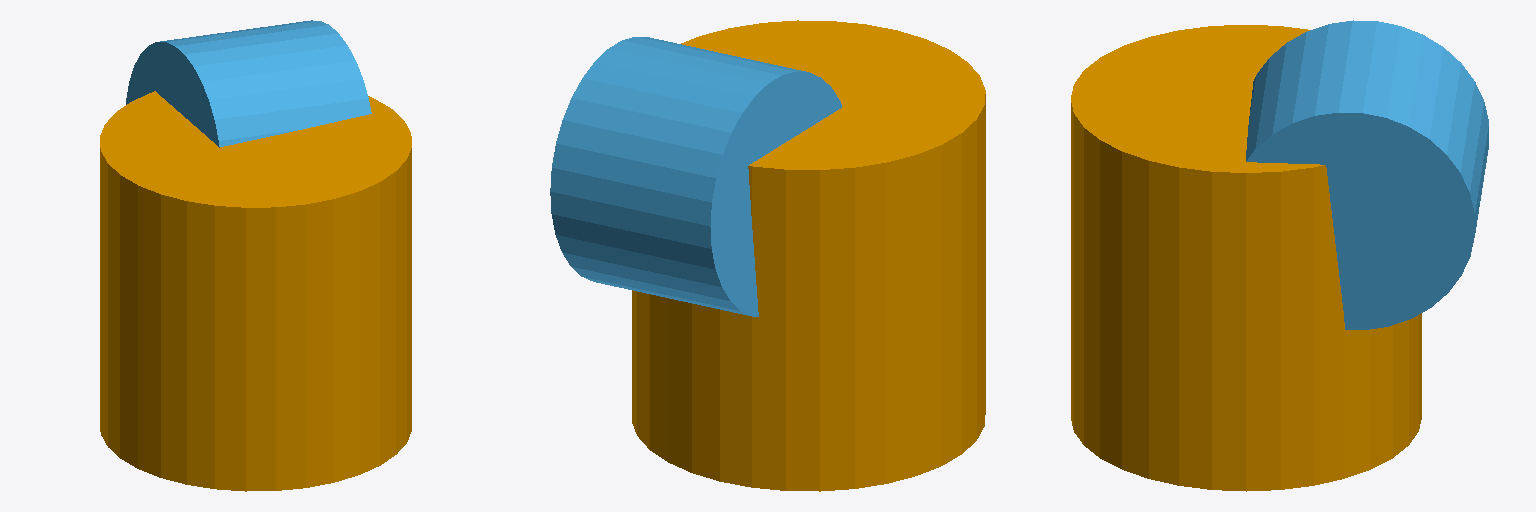
The robot description file, URDF, robot "pepe":
<?xml version="1.0"?><robot name="pepe">
	<link name="0">
		<visual>
			<geometry>
				<cylinder length="1.3659893883272214" radius="0.6836311533579179"/>
			</geometry>
		</visual>
		<collision>
			<geometry>
				<cylinder length="1.3659893883272214" radius="0.6836311533579179"/>
			</geometry>
		</collision>
		<inertial>
			<mass value="2.0055841520331796"/>
			<inertia ixx="0.03" iyy="0.03" izz="0.03" ixy="0" ixz="0" iyx="0"/>
		</inertial>
	</link>
	<link name="11">
		<visual>
			<geometry>
				<cylinder length="0.7484492312171249" radius="0.48318284140159073"/>
			</geometry>
		</visual>
		<collision>
			<geometry>
				<cylinder length="0.7484492312171249" radius="0.48318284140159073"/>
			</geometry>
		</collision>
		<inertial>
			<mass value="0.5489530799968464"/>
			<inertia ixx="0.03" iyy="0.03" izz="0.03" ixy="0" ixz="0" iyx="0"/>
		</inertial>
	</link>
	<joint name="11_to_0" type="revolute">
		<parent link="0"/>
		<child link="11"/>
		<axis xyz="1 0 0"/>
		<limit effort="1" upper="-3.1415" lower="3.1415" velocity="1"/>
		<origin rpy="4.151929505198383 4.832124504265251 5.194780699737973" xyz="0.22487902785236627 0.43760318945247034 0.4595920699586823"/>
	</joint>
</robot>

--- Render facts (derived) ---
The picture shows the robot from 3 angles, left to right: view 1: azimuth 30°, elevation 25°; view 2: azimuth 150°, elevation 25°; view 3: azimuth 270°, elevation 25°; orthographic projection.
Model pepe with 2 links and 1 joints (1 revolute), rooted at 0, posed all joints at 0.
Links seen in each view (by area): view 1: 0, 11; view 2: 0, 11; view 3: 0, 11.
Boxes of the visible links, x1,y1,x2,y2 form: 0: (100,91,411,491); 11: (126,20,371,147); 0: (632,20,985,491); 11: (550,37,841,316); 0: (1071,25,1421,491); 11: (1246,20,1488,329).
Size in the robot's own frame: 1.37 by 1.63 by 1.65 metres.
Geometry: primitives only (box / cylinder / sphere), no mesh files.
